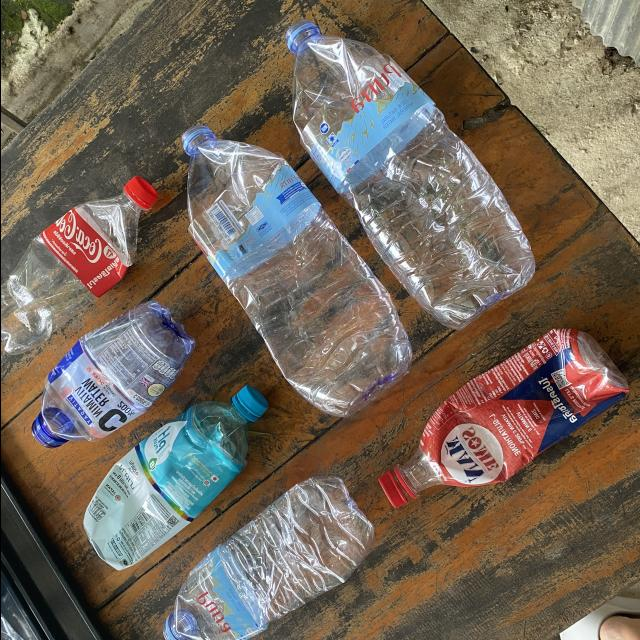plastik: (286, 21, 534, 329), (182, 125, 411, 417), (378, 329, 628, 508), (163, 477, 373, 640), (83, 386, 267, 570), (0, 177, 156, 355), (32, 300, 194, 447)
